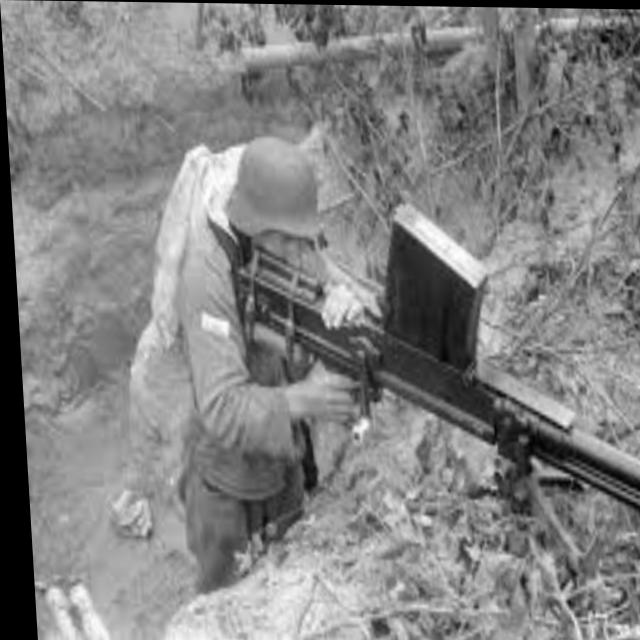other: (155, 147, 383, 589)
